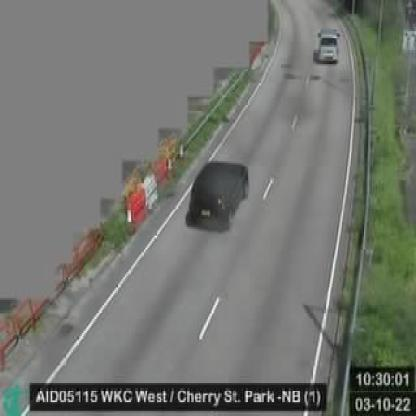Car: (186, 161, 246, 231), (317, 28, 338, 64)
